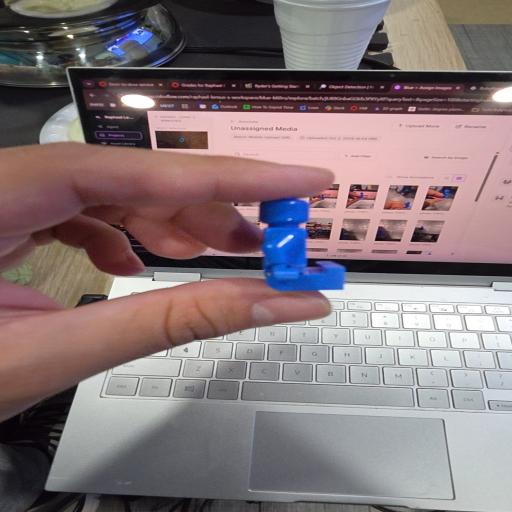Blue: (260, 198, 344, 291)
